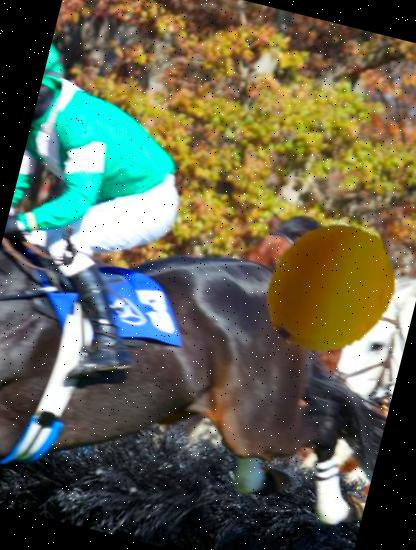Peach: (247, 204, 415, 372)
